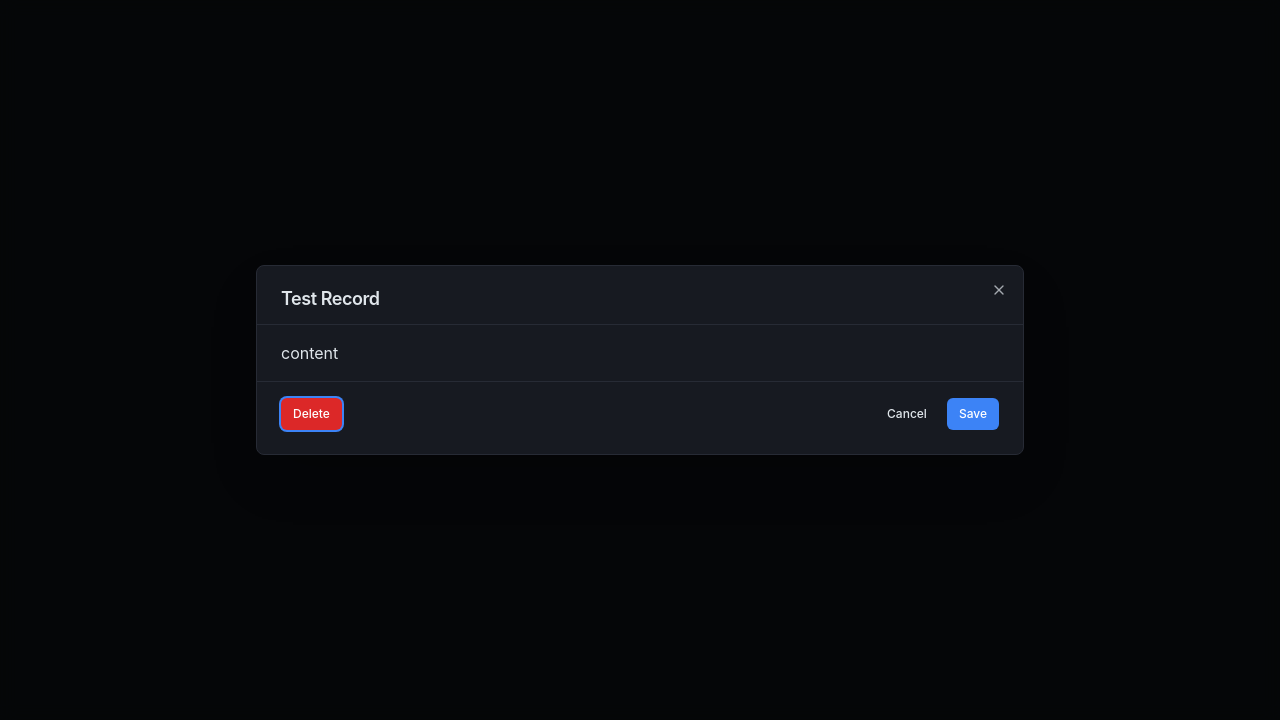
Test: RecordModal — two-stage delete › cancels delete confirmation and returns to delete button
This screenshot has width=1280, height=720.
Click the button "Delete" at (311, 414), box x1=281 y1=398 x2=342 y2=430
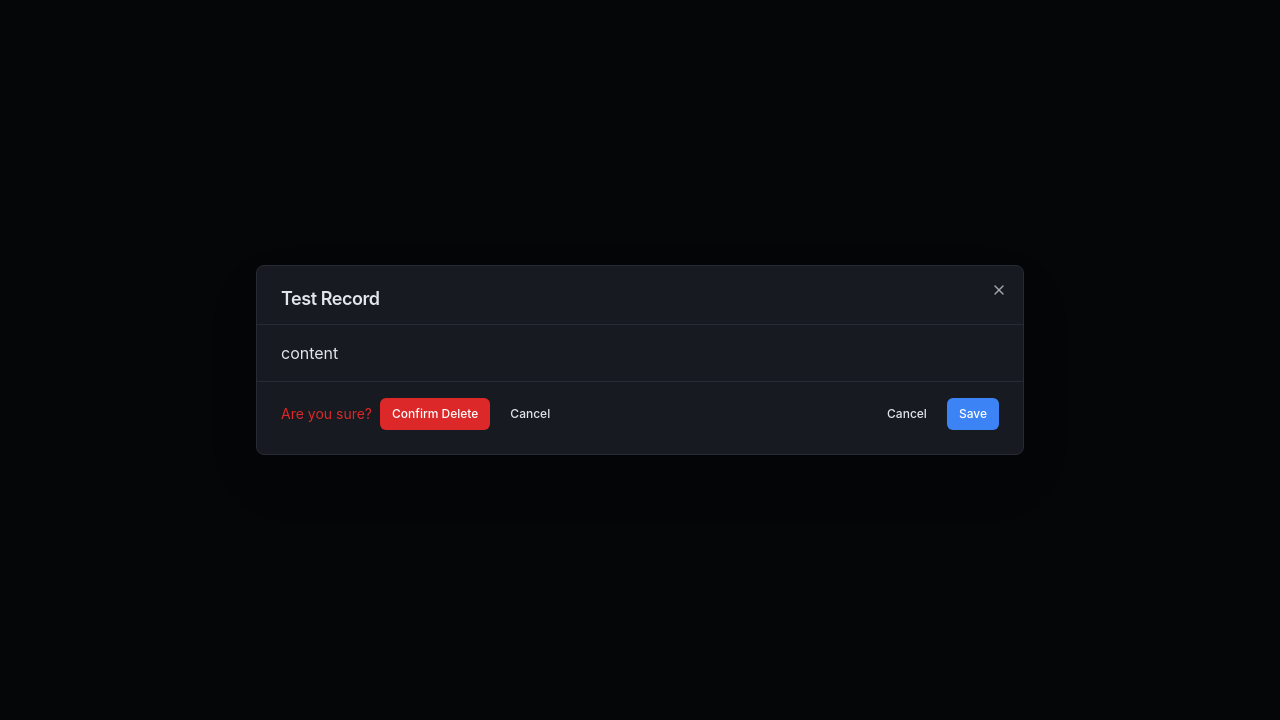
Expected: the text "Are you sure?" is shown, x1=281 y1=404 x2=372 y2=424
Click the button "Cancel" in the row of "Are you sure?" at (530, 414), box x1=498 y1=398 x2=562 y2=430
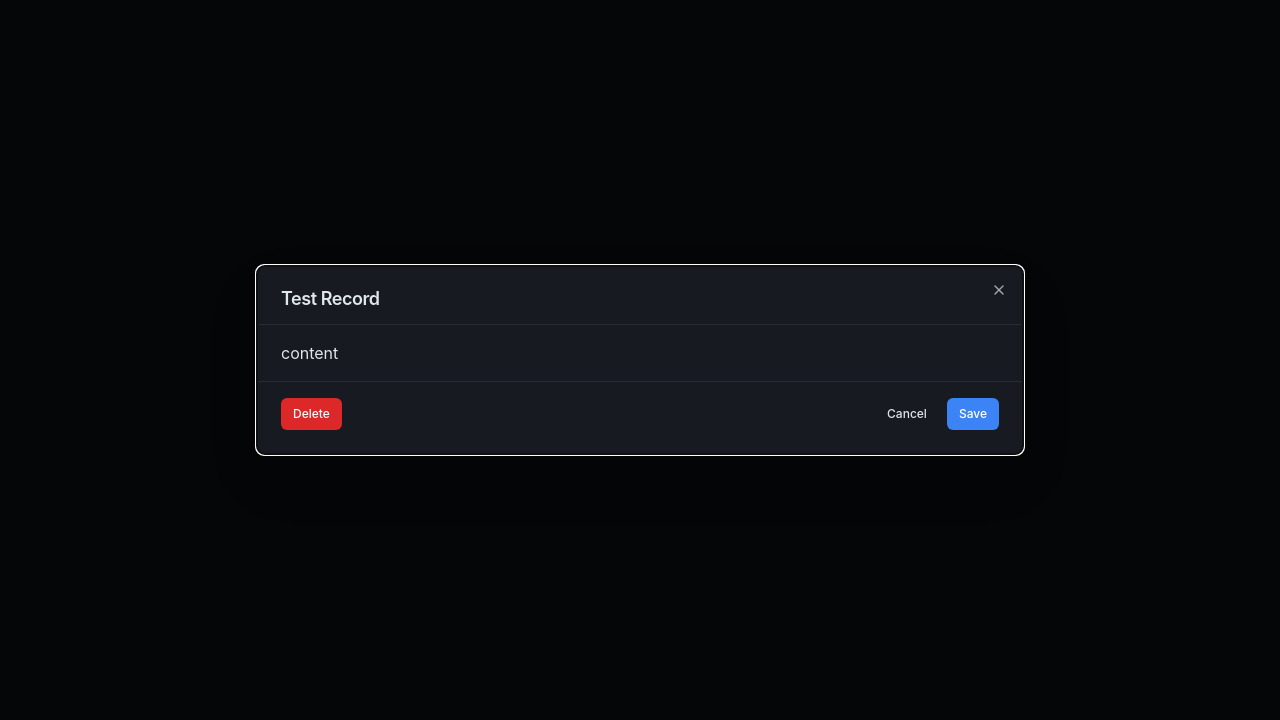
Expected: the button "Delete" is shown, x1=281 y1=398 x2=342 y2=430
Expected: the text "Are you sure?" is gone
